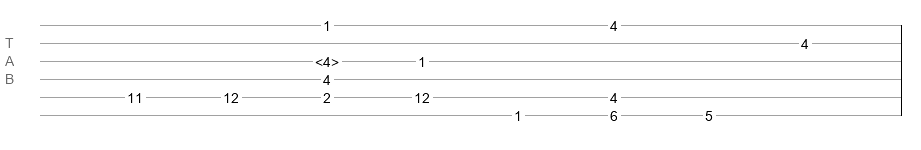1: (323, 18, 331, 28), (418, 54, 426, 64), (514, 108, 522, 118)
11: (127, 90, 143, 100)
12: (223, 90, 239, 100), (414, 90, 430, 100)
2: (323, 90, 331, 100)
4: (323, 72, 331, 82), (610, 18, 618, 28), (610, 90, 618, 100), (801, 36, 809, 46)
5: (705, 108, 713, 118)
6: (610, 108, 618, 118)
harmonic: (315, 54, 339, 64)
